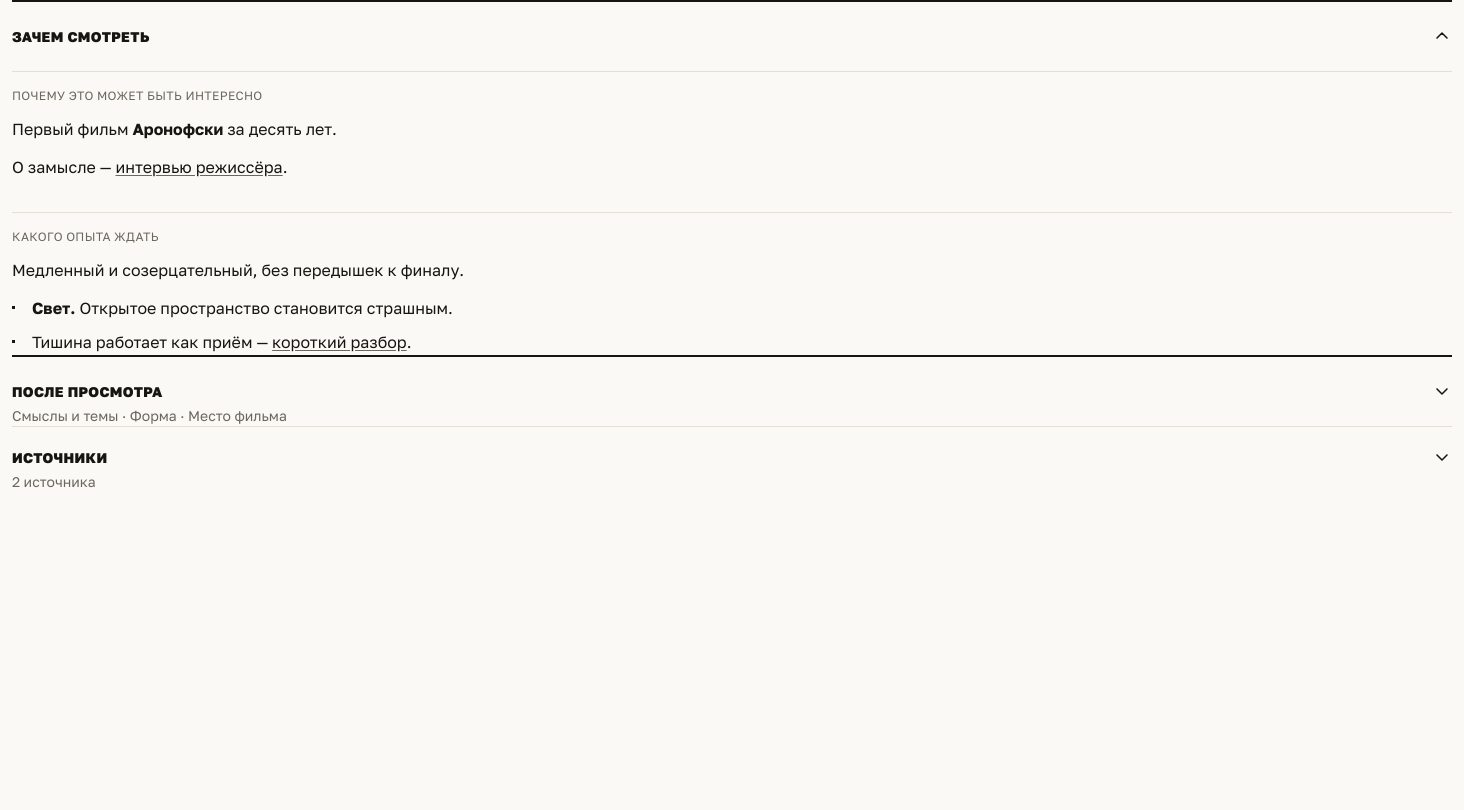
Источники (критерий 11) › раскрытая секция называет издание и заголовок каждого источника
Step 1. Click the button "Источники 2 источника" → point(60, 458), box [12, 443, 1452, 492]
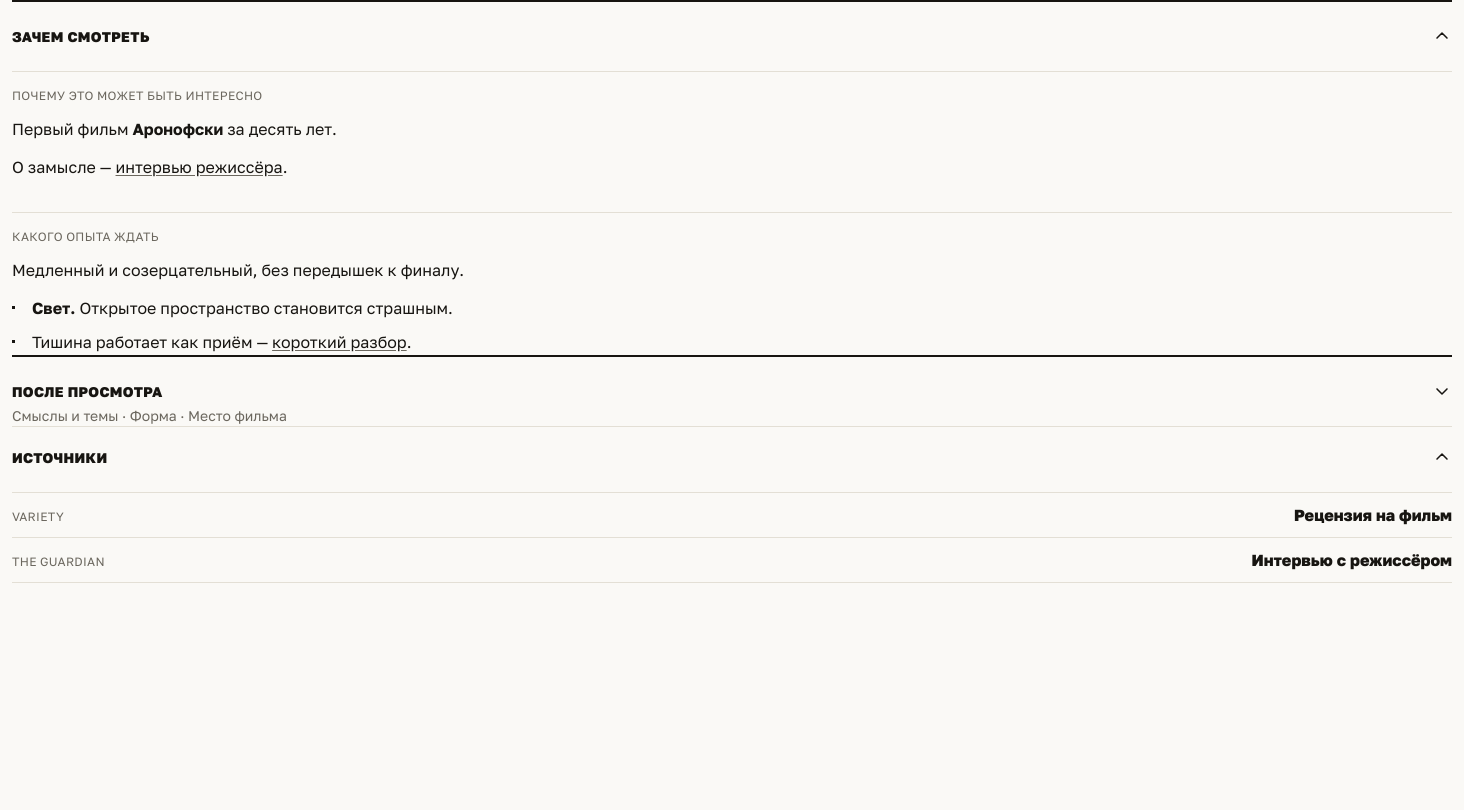
Now the text "Variety" is shown, box [12, 509, 64, 525]
Now the text "Рецензия на фильм" is shown, box [1294, 503, 1452, 527]
Now the text "The Guardian" is shown, box [12, 554, 105, 570]
